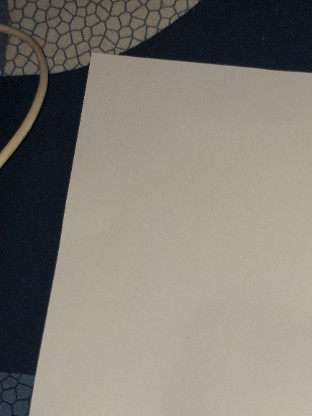ironball: (138, 123, 158, 150), (142, 214, 164, 237), (155, 130, 176, 153), (177, 130, 198, 152), (46, 241, 68, 262), (185, 109, 205, 132), (32, 226, 52, 245), (50, 221, 72, 238), (54, 202, 72, 221)
